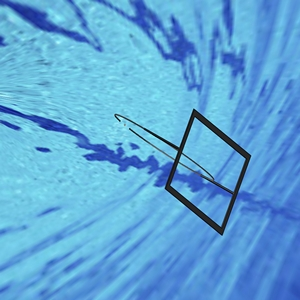circle: (112, 105, 251, 234)
